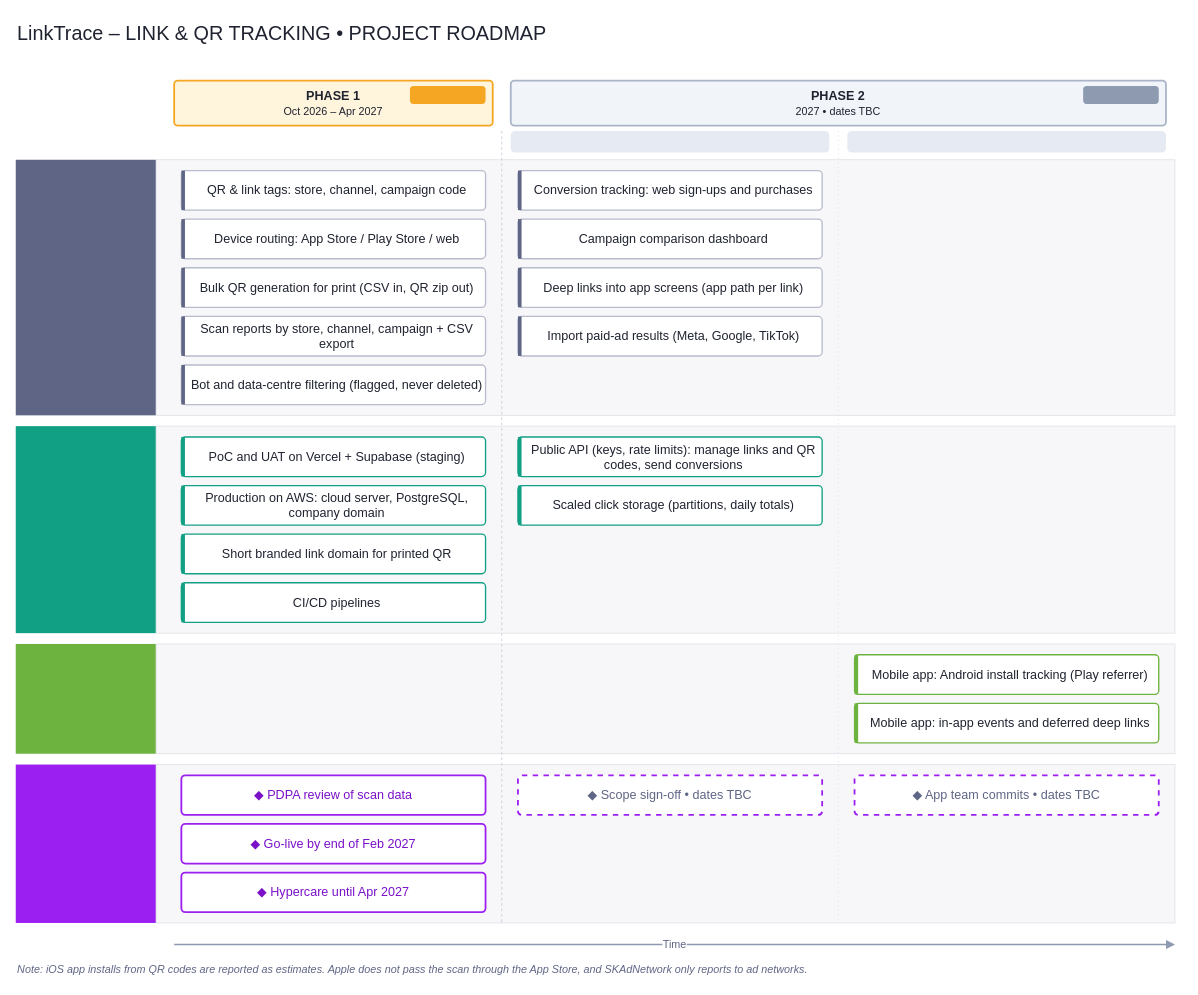
This 1198x995 diagram has some shape labels left out. Each missing label, with the centre of its shape:
In progress: point (447, 95)
Integrations: point (85, 698)
Milestones: point (85, 843)
Our team • no outside dependency: point (669, 141)
Pending: point (1120, 95)
Platform & infrastructure: point (85, 529)
Product & features: point (85, 287)
With mobile app team • their timeline: point (1006, 141)
